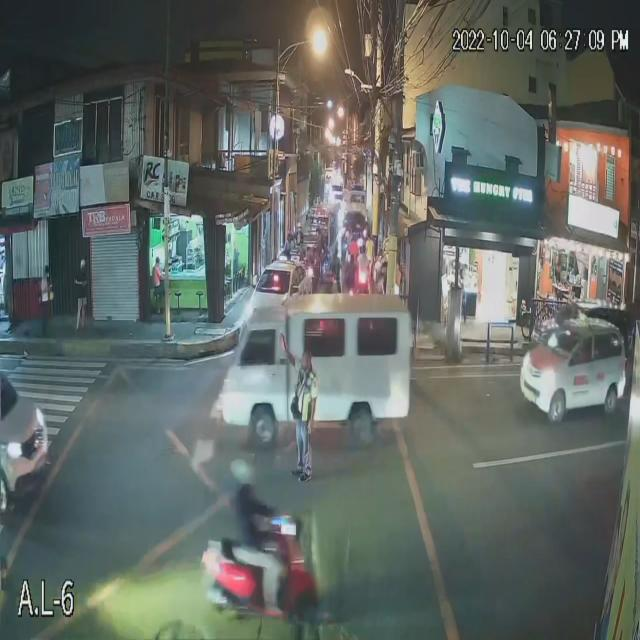Full-Faced: (234, 447, 255, 488)
